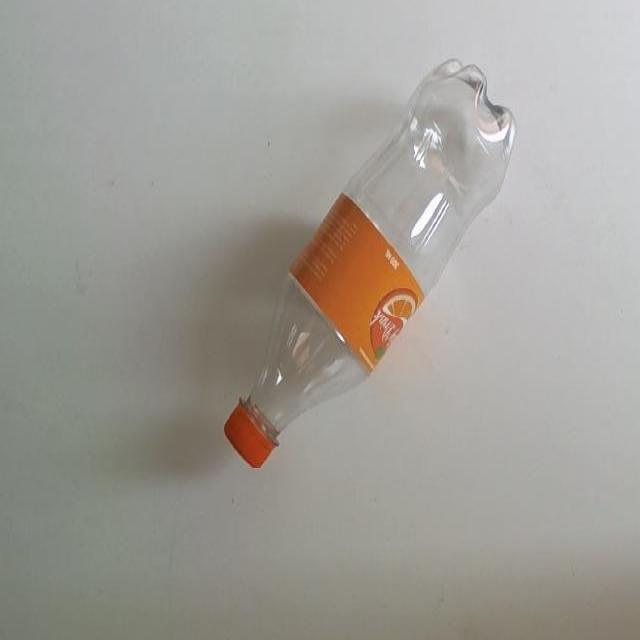non-defect: (222, 57, 520, 470)
